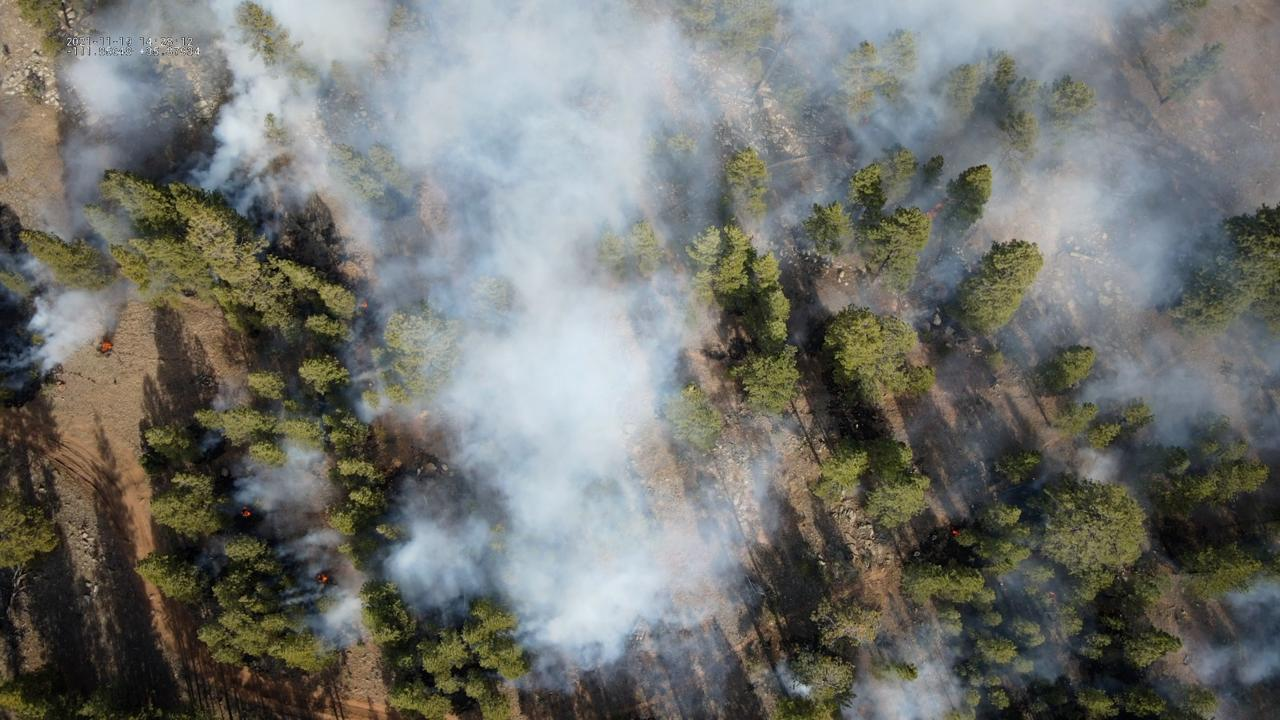fire: (923, 201, 944, 219), (98, 340, 114, 354), (238, 505, 251, 518), (315, 572, 328, 584), (355, 300, 370, 310), (952, 529, 961, 536)
smoke: (0, 0, 1280, 720)
